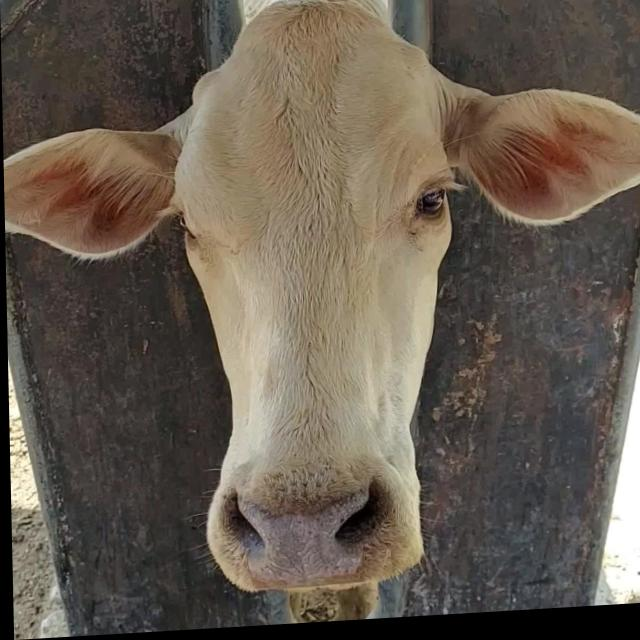cowFace: (180, 0, 460, 600)
